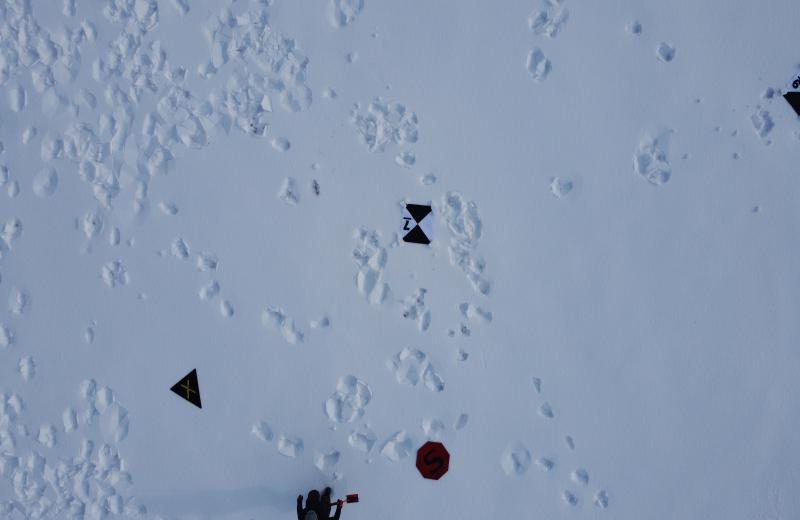Octagon: (412, 440, 453, 485)
Triangle: (166, 365, 209, 414)
